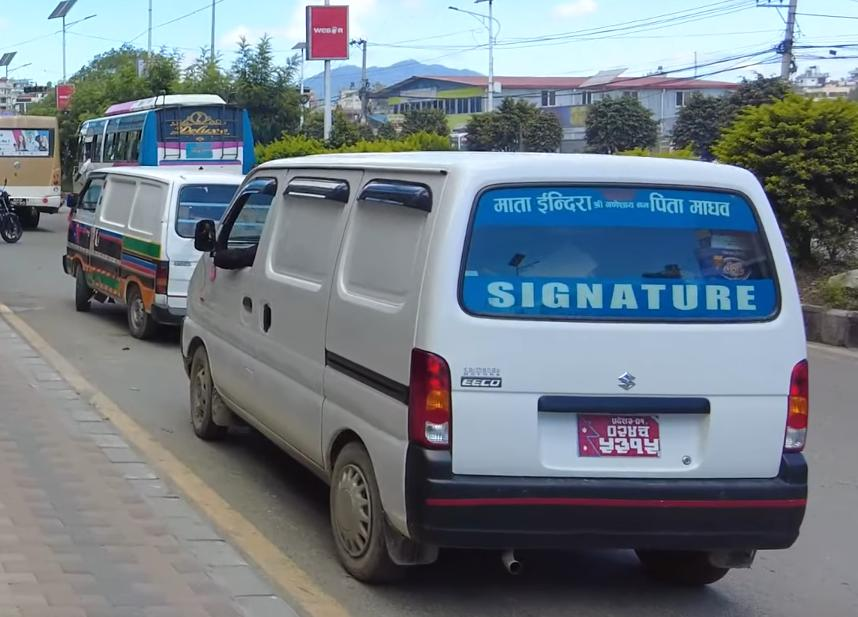bus: (76, 88, 261, 177)
van: (180, 145, 828, 584), (65, 156, 310, 345)
